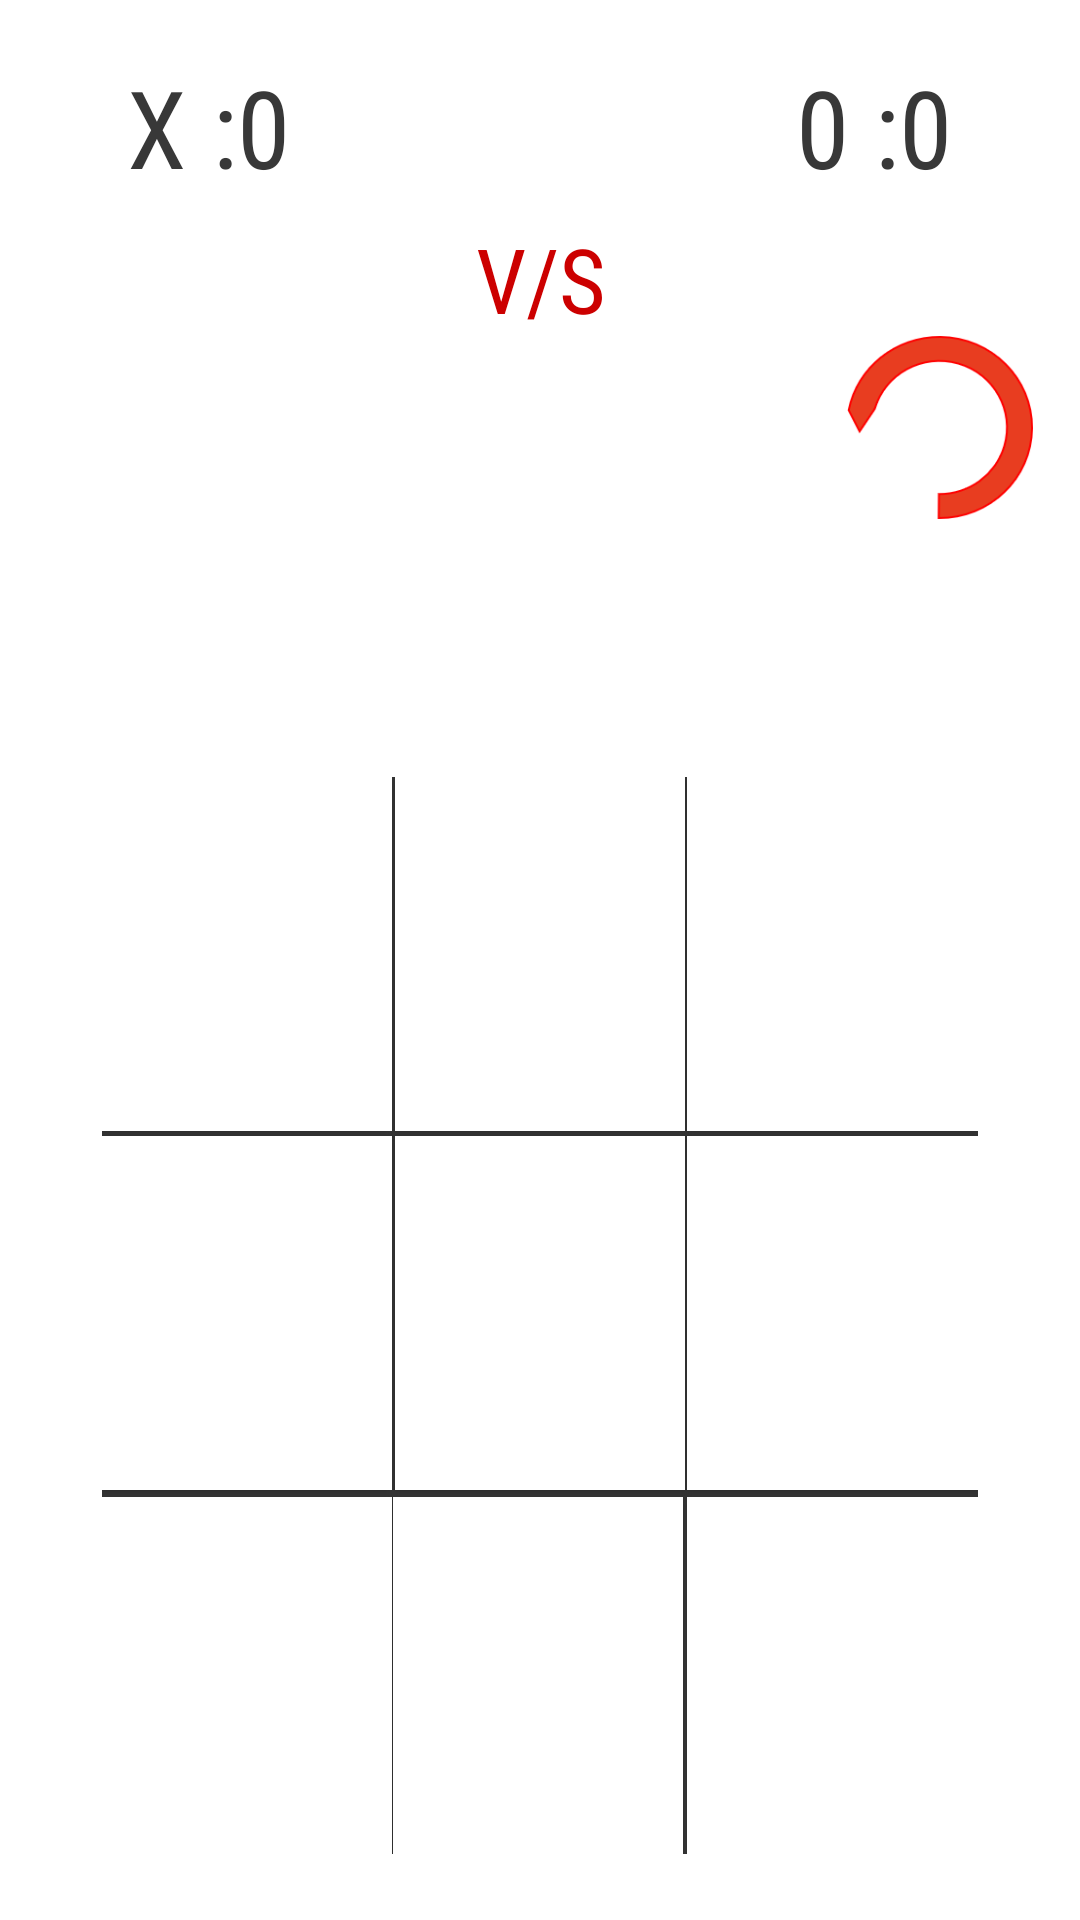

Named icons in this screenshot (1080px x 1920px) and their bounding boxes, BBox(x1, y1, x2, y2):
rev: BBox(847, 336, 1033, 519)
